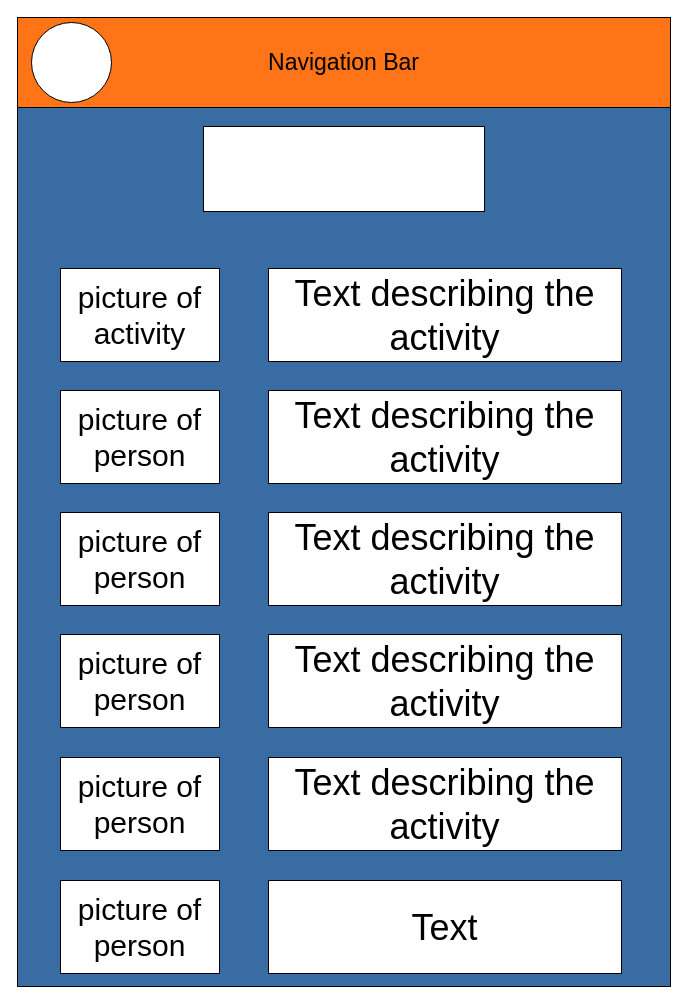
Some shapes in this 688 by 1004 pixel diagram are drawn without their labels. Each missing label, with the centre of its shape:
Activities We Offer: (x=343, y=169)
Logo: (x=71, y=62)
